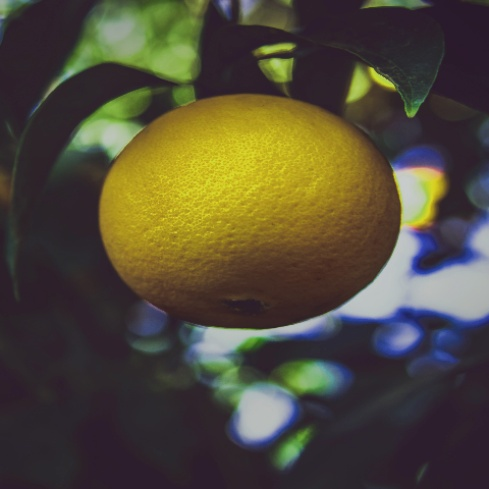orange: (68, 90, 464, 338)
